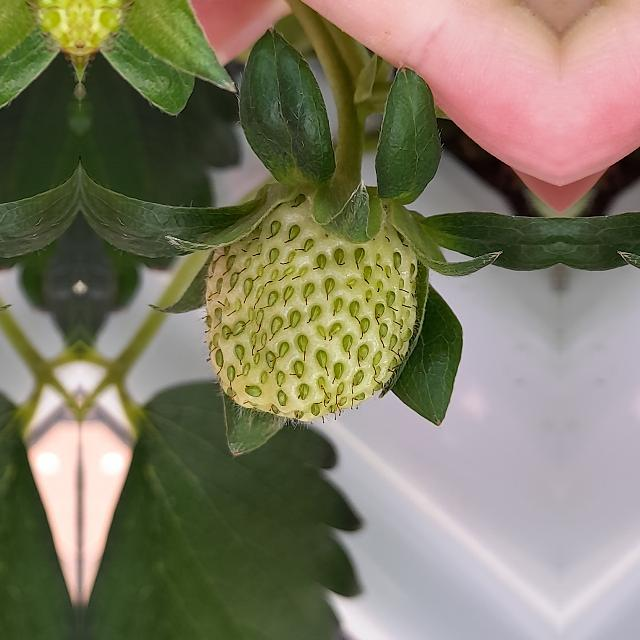Health_25: (196, 184, 420, 430)
